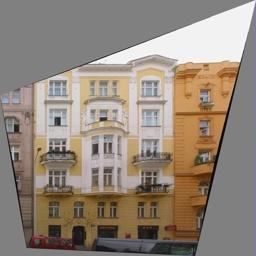building: (34, 45, 171, 254), (174, 40, 256, 255)
